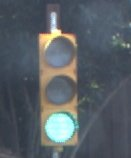Green: (26, 20, 100, 158)
